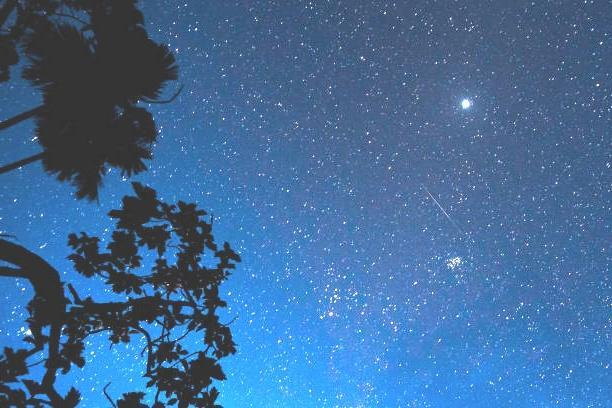meteorite: (412, 166, 461, 238)
